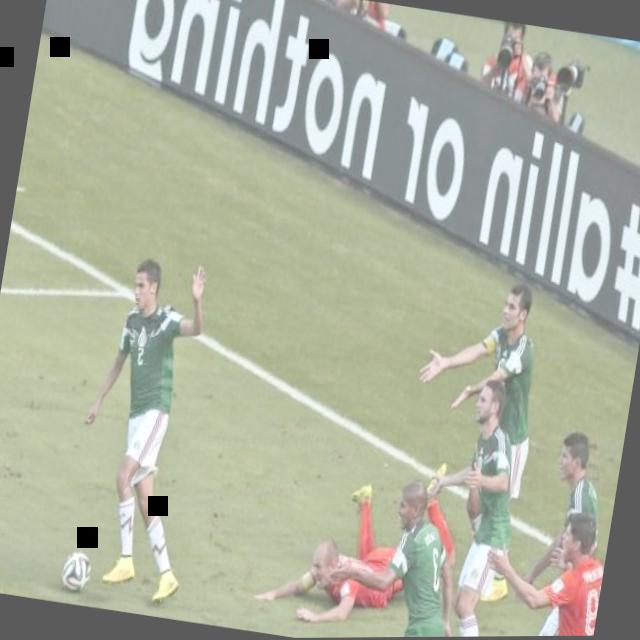Fall-Detected: (247, 451, 448, 639)
